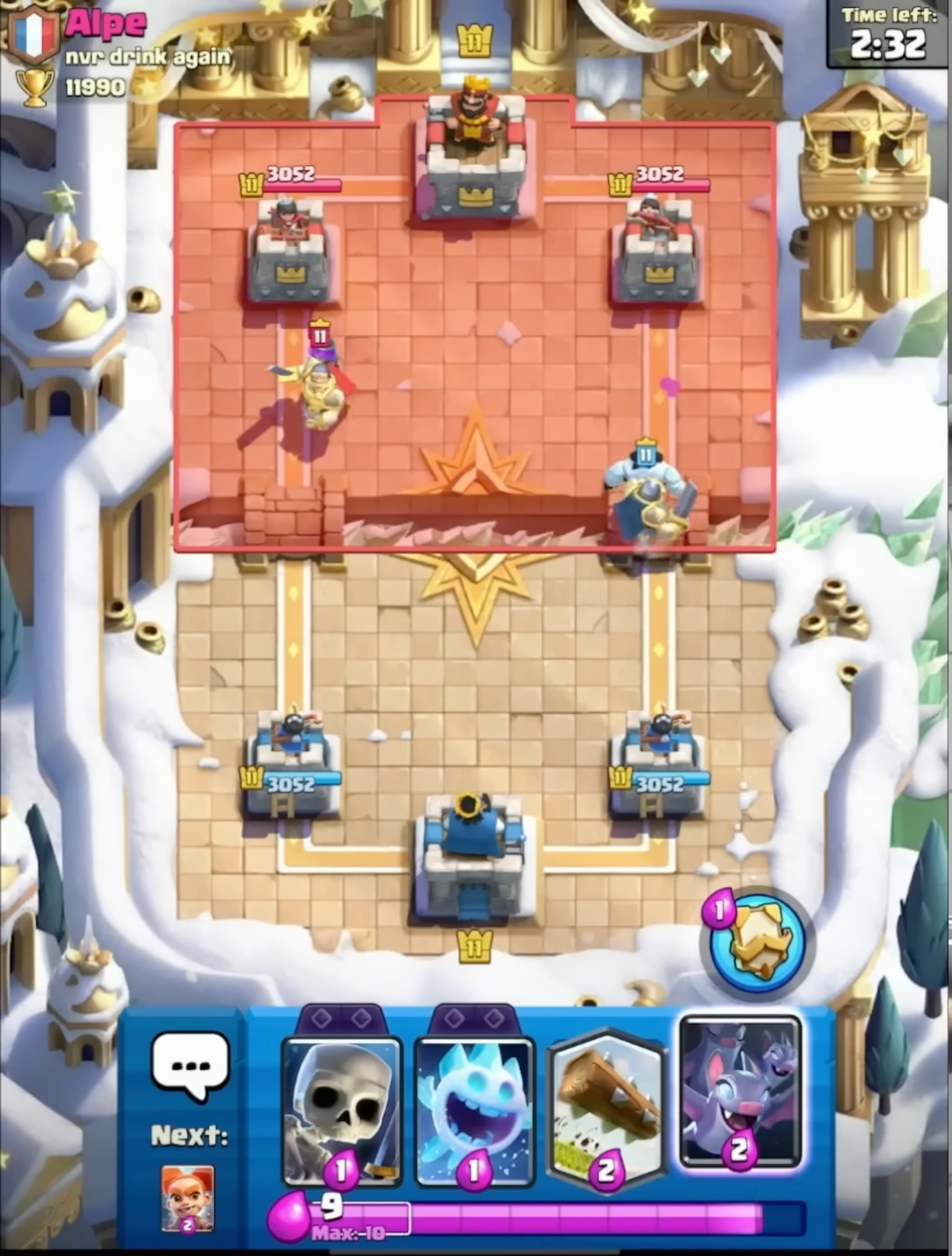hero-knight: (276, 313, 359, 447)
